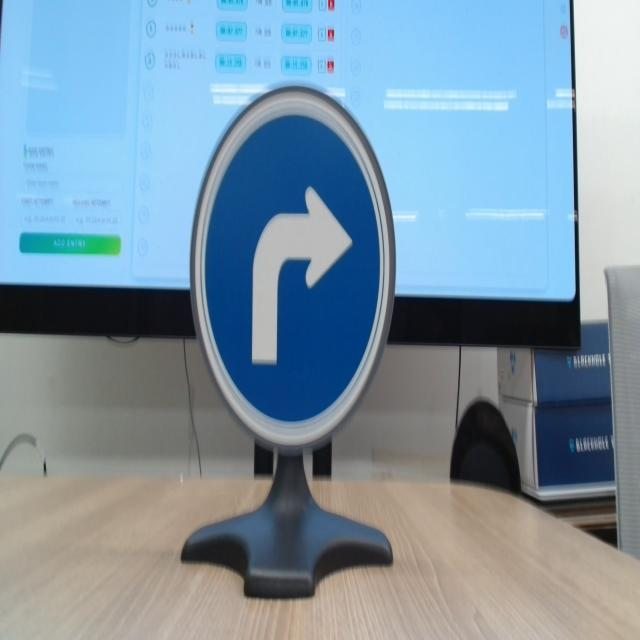right_dierection: (185, 74, 406, 477)
